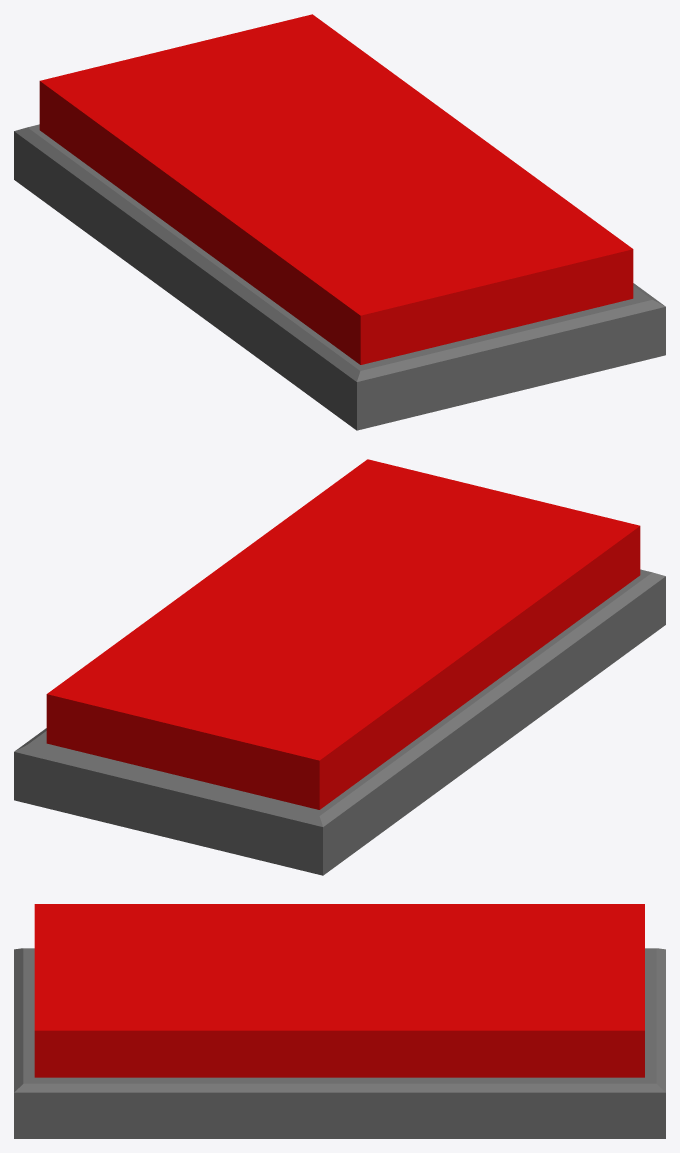
The model's file is ButtonGenericRectangle.fbx.
The picture shows the model from 3 angles, top to bottom: view 1: azimuth 30°, elevation 25°; view 2: azimuth 150°, elevation 25°; view 3: azimuth 270°, elevation 25°; orthographic projection. The views are drawn at different scales.
Visible parts, largest first — view 1: pCube6, pCube7; view 2: pCube6, pCube7; view 3: pCube6, pCube7.
Part boxes in pixels (x1=…): pCube6: x1=39, y1=14, x2=633, y2=364; pCube7: x1=14, y1=124, x2=665, y2=430; pCube6: x1=46, y1=459, x2=640, y2=809; pCube7: x1=14, y1=569, x2=665, y2=875; pCube6: x1=34, y1=904, x2=644, y2=1077; pCube7: x1=14, y1=948, x2=665, y2=1138.
Size of the model in its own units: 0.7688 by 0.2458 by 1.48.
